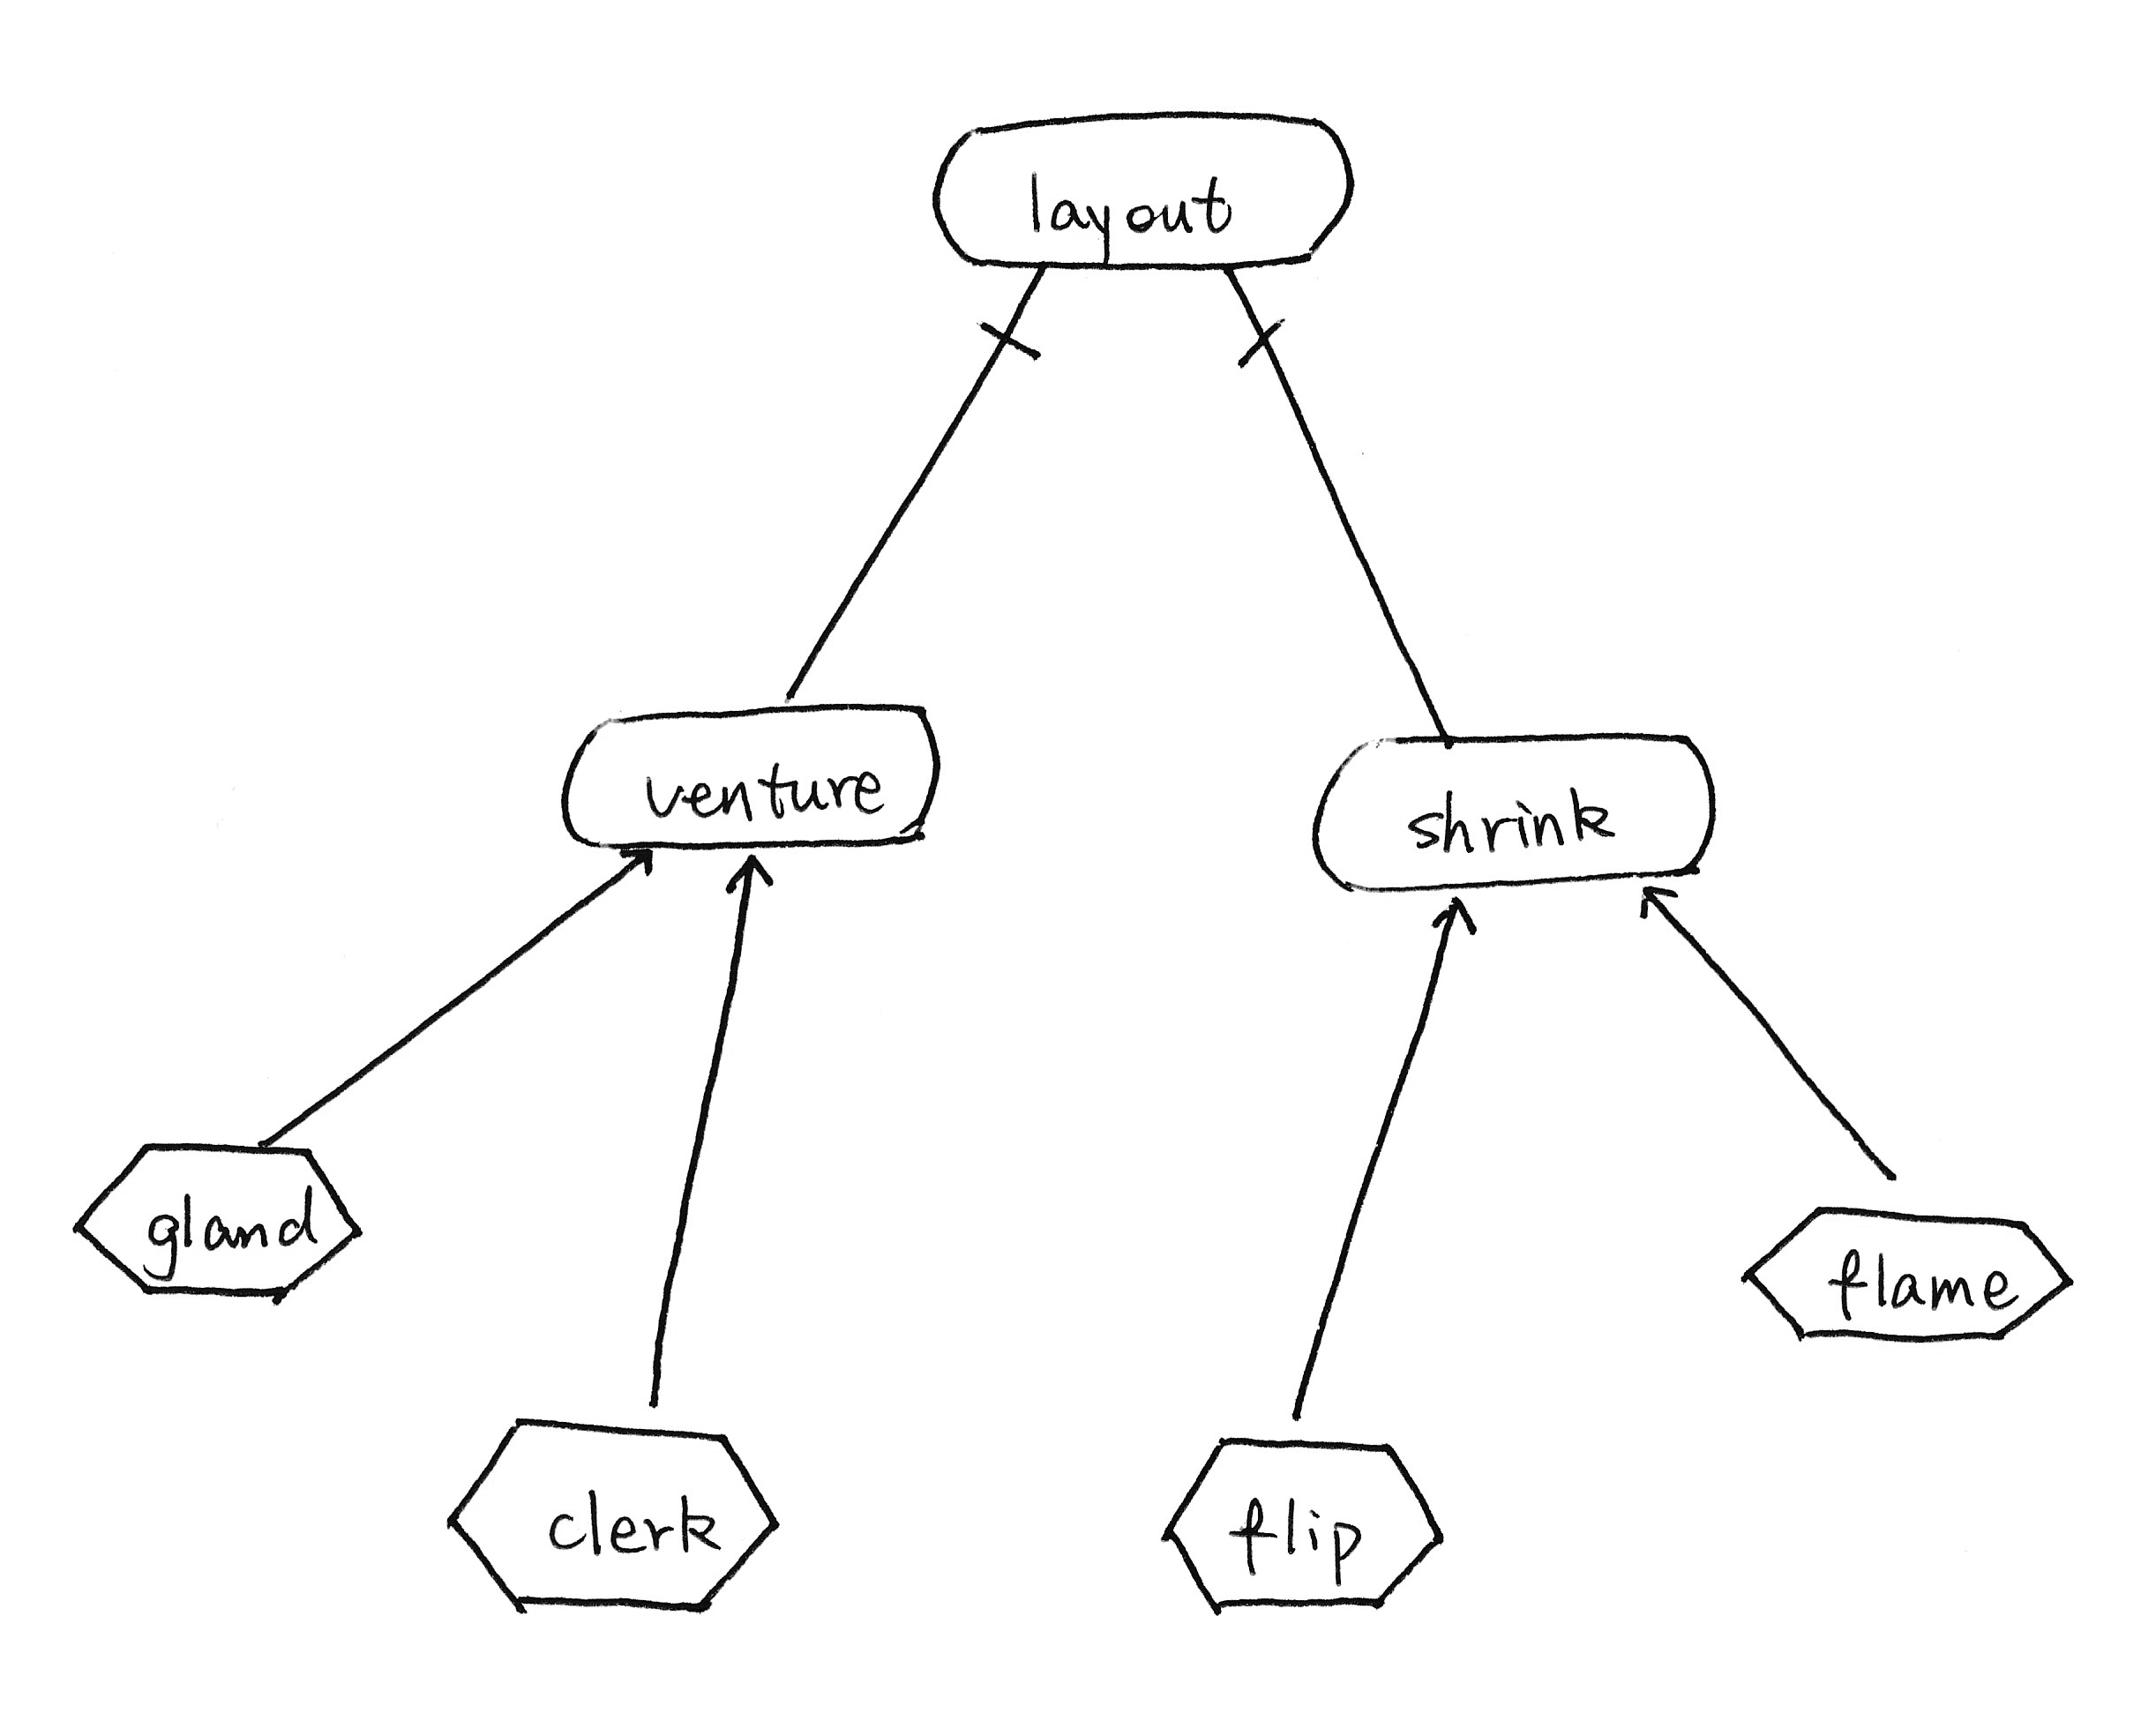and: (1199, 248, 1302, 381), (966, 252, 1077, 372)
arrow: (593, 822, 670, 900), (1617, 868, 1695, 935), (717, 836, 787, 911), (1426, 879, 1486, 958)
goal: (912, 90, 1371, 303), (1299, 714, 1740, 909), (542, 687, 958, 872)
task: (430, 1398, 804, 1633), (1146, 1417, 1470, 1624), (58, 1123, 377, 1321), (1733, 1190, 2089, 1366)
